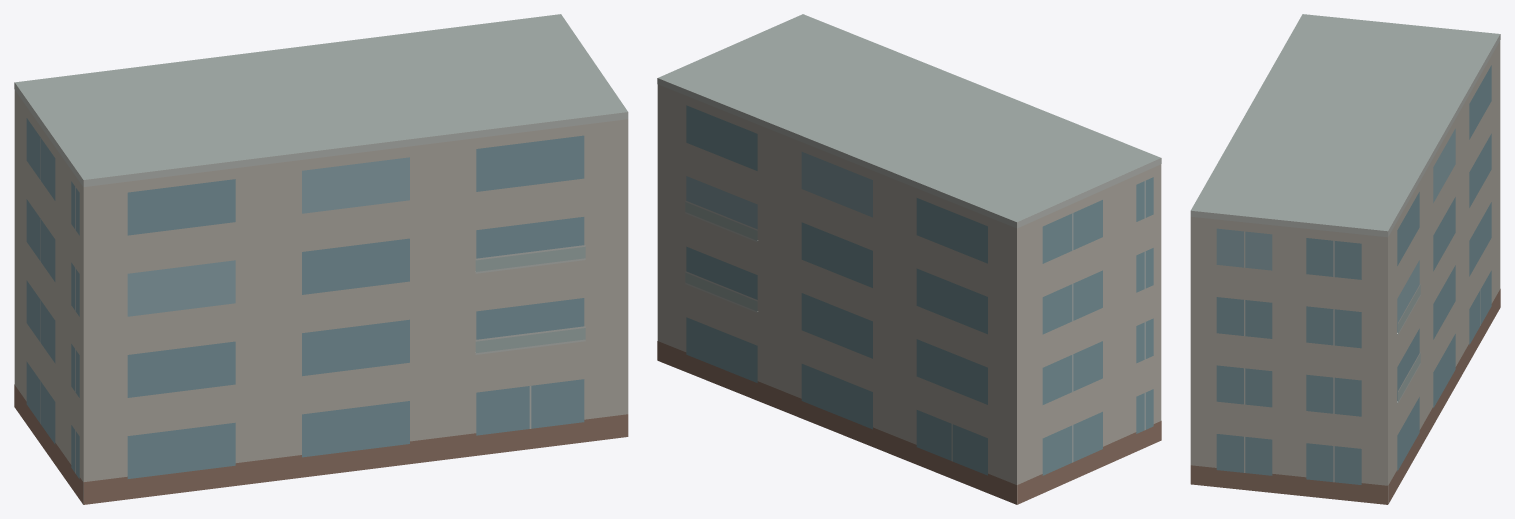
Rendered from survey-upis-32898768.glb.
3 renders of one model, left to right at view 1: azimuth 30°, elevation 25°; view 2: azimuth 150°, elevation 25°; view 3: azimuth 270°, elevation 25°, orthographic. The views are drawn at different scales.
Parts seen in each view (by area): view 1: survey-upis-32898768.tmp; view 2: survey-upis-32898768.tmp; view 3: survey-upis-32898768.tmp.
Boxes of the visible parts, left/top/right/bottom form: survey-upis-32898768.tmp: left=14, top=14, right=628, bottom=504; survey-upis-32898768.tmp: left=657, top=14, right=1161, bottom=504; survey-upis-32898768.tmp: left=1190, top=14, right=1500, bottom=504.
Size of the model in its own units: 18.91 by 11.1 by 11.4.
